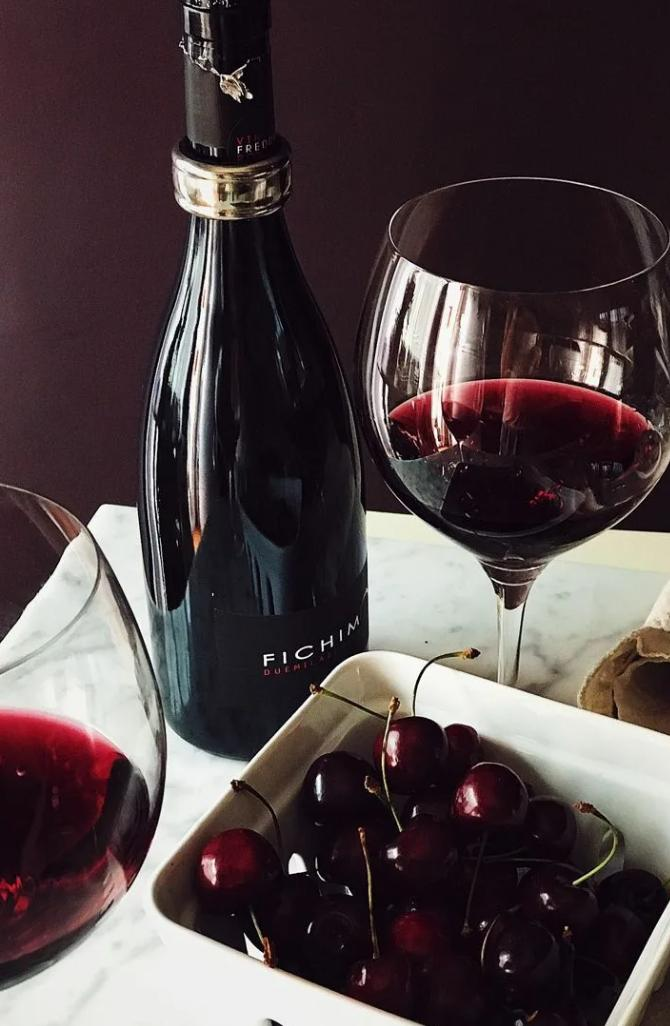wine bottle: (137, 1, 371, 763)
wine label: (212, 564, 370, 706)
